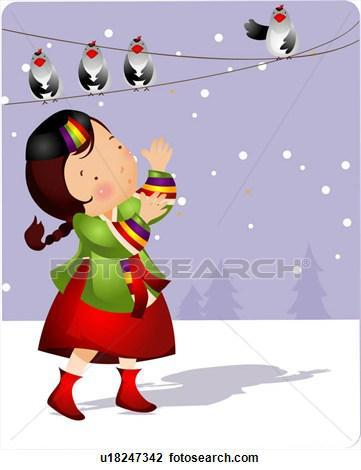bird: (241, 2, 301, 60), (24, 46, 66, 106), (74, 37, 113, 100), (121, 34, 156, 94)
person: (15, 108, 188, 417)
